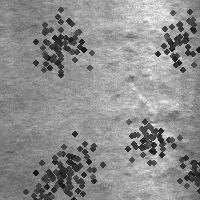rolled-in_scale: (17, 117, 115, 200), (14, 0, 102, 87), (119, 31, 172, 123), (139, 0, 200, 72), (114, 105, 178, 169), (11, 162, 79, 200), (171, 149, 200, 200)
